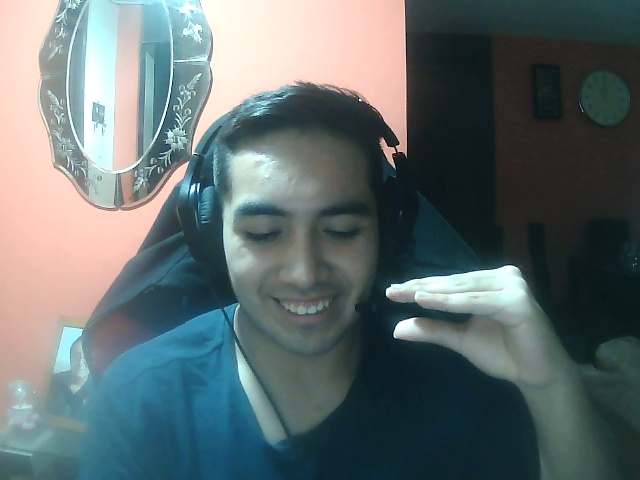no: (384, 260, 580, 388)
